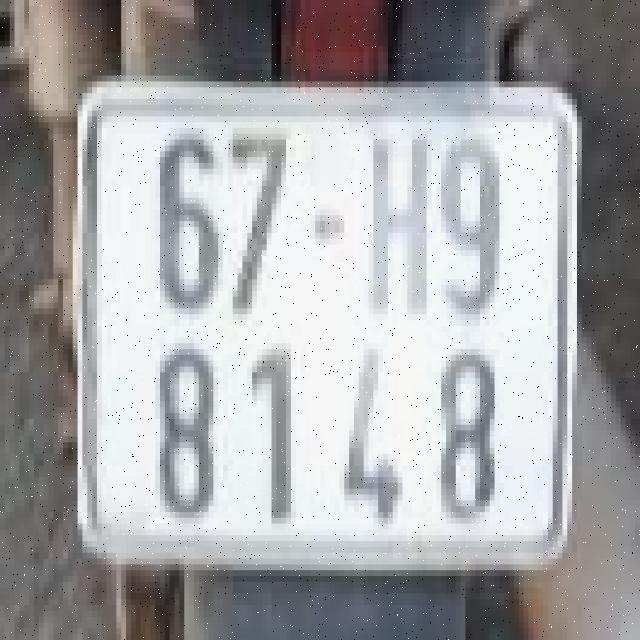1: (245, 334, 322, 532)
4: (335, 329, 417, 532)
6: (150, 116, 218, 326)
7: (213, 113, 296, 323)
8: (136, 311, 223, 521), (429, 334, 507, 532)
9: (439, 128, 516, 320)
H: (354, 119, 441, 323)
